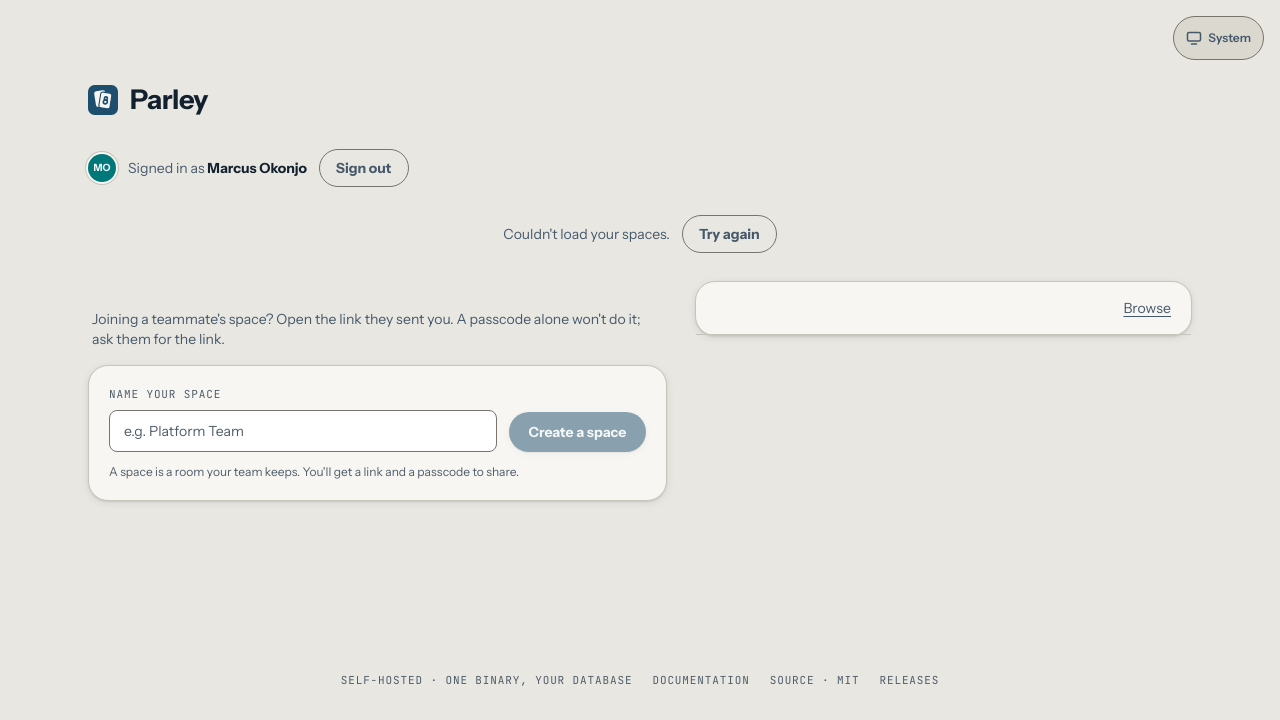
Test: Landing › says so when the space list cannot be read, and reads it again on request
The width and height of the screenshot is (1280, 720).
Expected: the text "Couldn't load your spaces. Try again" is shown, [503, 215, 777, 253]
Click the button "Try again": (729, 234) [682, 215, 777, 253]
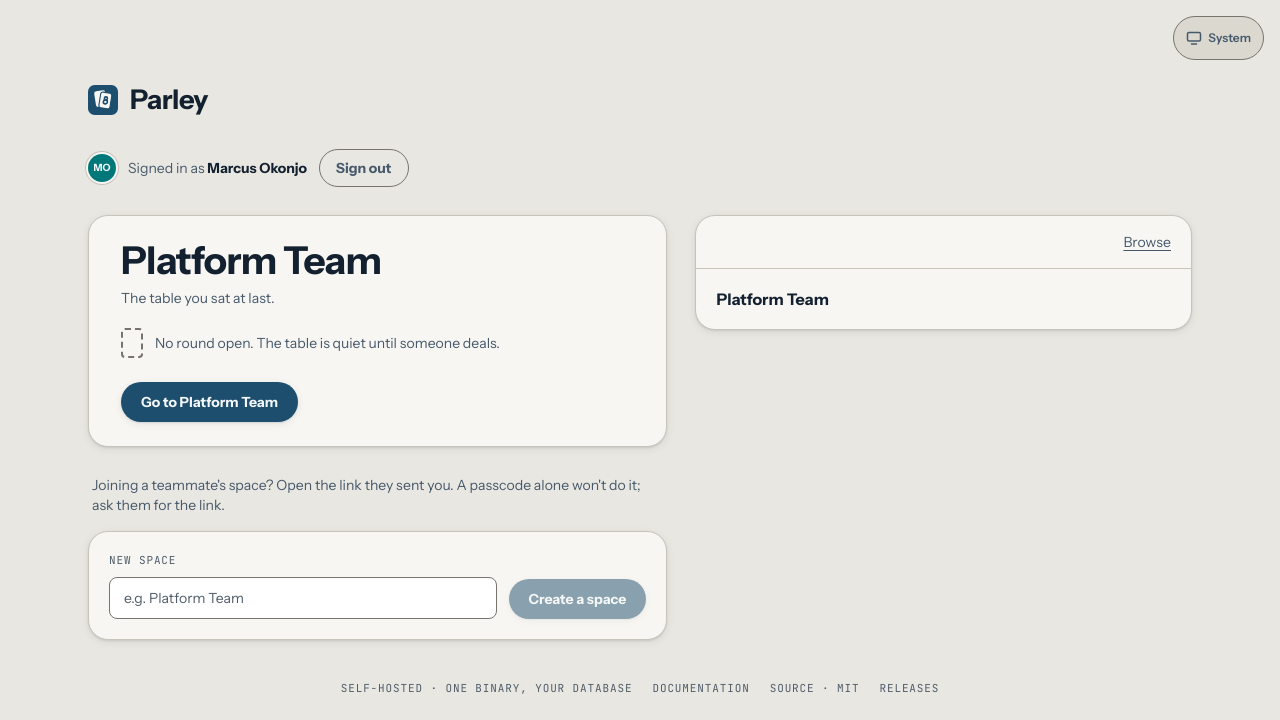
Expected: the text "Platform Team" is shown, [716, 289, 829, 309]
